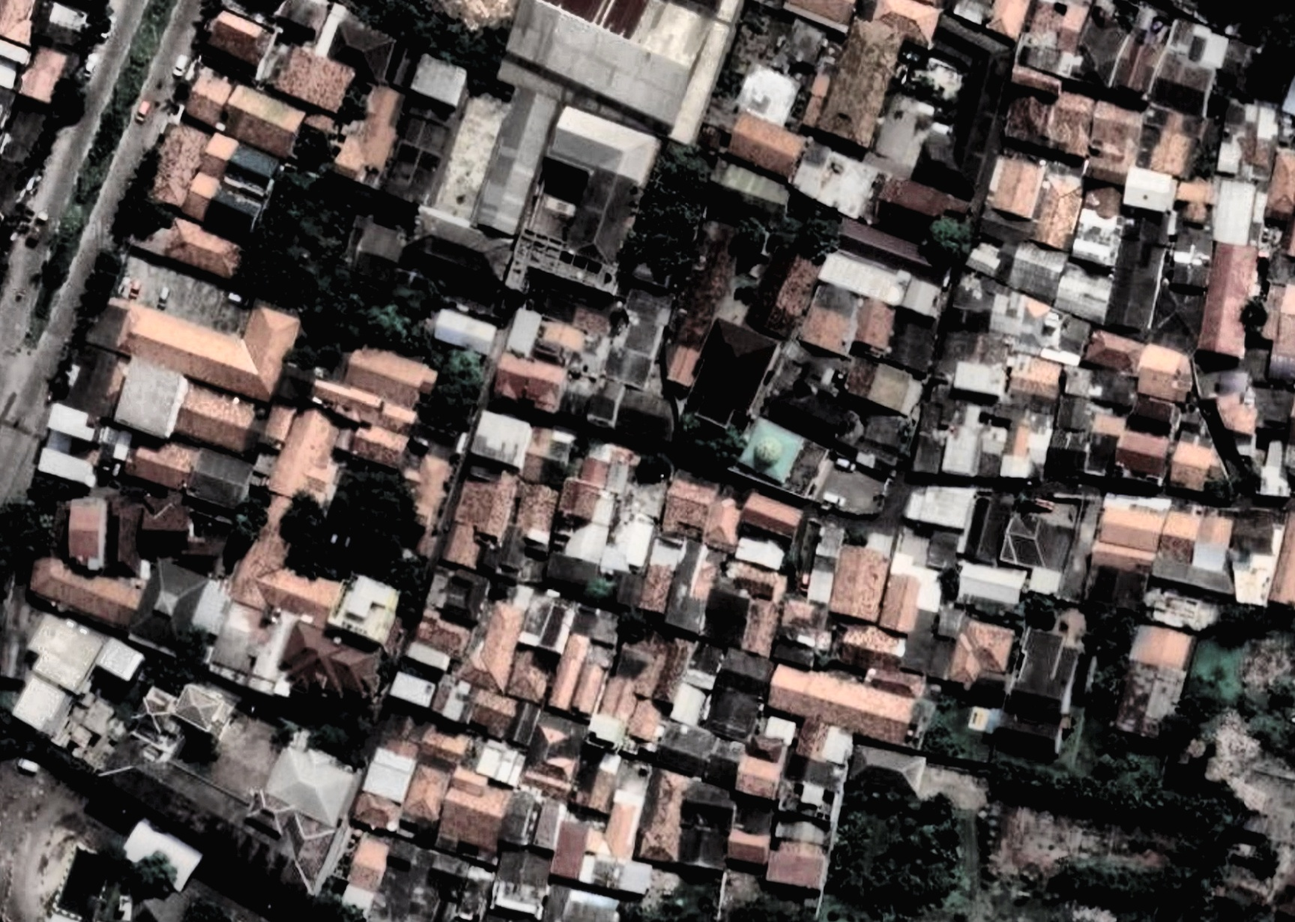building: (95, 729, 340, 908), (493, 0, 745, 147), (502, 103, 665, 318), (94, 259, 303, 409), (497, 0, 699, 135), (914, 16, 1017, 206), (646, 216, 753, 393), (347, 707, 474, 853), (221, 787, 349, 905), (468, 82, 564, 239), (763, 658, 922, 751), (910, 384, 1041, 493), (542, 354, 685, 452), (811, 12, 911, 151), (678, 315, 783, 437), (125, 556, 237, 669), (270, 618, 391, 721), (755, 336, 865, 446), (1077, 489, 1173, 615), (203, 593, 312, 703), (258, 729, 372, 834), (1205, 99, 1285, 247), (1108, 619, 1199, 748), (544, 103, 662, 193), (21, 552, 146, 635), (223, 493, 309, 613), (730, 414, 834, 506), (265, 401, 352, 510), (977, 283, 1086, 370), (131, 205, 247, 286), (367, 836, 475, 922), (866, 170, 973, 256), (1104, 206, 1174, 337), (441, 463, 522, 576), (330, 77, 409, 189), (1003, 625, 1090, 726), (742, 241, 827, 344), (831, 216, 952, 287), (406, 207, 517, 284), (602, 286, 681, 393), (786, 138, 884, 223), (431, 766, 517, 862), (1196, 239, 1262, 363), (1043, 392, 1129, 487), (338, 337, 440, 416), (170, 382, 268, 462), (17, 609, 106, 697), (214, 80, 309, 162), (770, 752, 849, 850), (305, 375, 418, 442), (831, 398, 920, 482), (249, 553, 346, 629), (611, 623, 694, 709), (109, 356, 191, 443), (320, 11, 408, 92), (701, 156, 796, 231), (1221, 505, 1288, 610), (268, 41, 357, 120), (117, 815, 205, 894), (120, 685, 202, 769), (658, 537, 725, 639), (721, 109, 808, 184), (326, 569, 406, 648), (1013, 0, 1092, 80), (144, 119, 211, 213), (195, 4, 276, 81), (672, 779, 738, 873), (466, 596, 529, 693), (945, 617, 1019, 699), (389, 447, 458, 534), (1067, 2, 1134, 91), (1109, 10, 1174, 101), (838, 352, 926, 419), (61, 341, 132, 424), (884, 539, 957, 619), (1081, 100, 1146, 188), (634, 767, 690, 867), (826, 542, 893, 625), (817, 249, 911, 308), (766, 375, 851, 440), (488, 350, 570, 417), (1147, 47, 1221, 121), (496, 785, 569, 859), (167, 674, 242, 746), (910, 127, 986, 198), (333, 832, 396, 917), (934, 325, 1011, 394), (1027, 168, 1089, 253), (182, 446, 257, 516), (488, 844, 555, 922), (122, 430, 199, 497), (343, 213, 410, 289), (736, 416, 807, 487), (957, 487, 1017, 569), (632, 533, 689, 619), (609, 385, 683, 451), (1145, 280, 1210, 355), (733, 60, 803, 128), (1139, 585, 1224, 640), (423, 562, 493, 628), (899, 609, 961, 683), (1050, 260, 1119, 326), (815, 462, 889, 523), (651, 716, 719, 782), (846, 743, 927, 798), (524, 709, 590, 776), (1002, 239, 1069, 305), (984, 152, 1047, 222), (1132, 342, 1199, 407), (655, 474, 719, 542), (489, 350, 557, 414), (698, 575, 756, 650), (468, 408, 536, 471), (396, 762, 451, 839), (998, 508, 1062, 574), (544, 630, 593, 714), (1149, 555, 1238, 601), (59, 691, 121, 757), (1095, 499, 1168, 555), (517, 590, 578, 657), (519, 422, 578, 491), (992, 707, 1066, 762), (8, 673, 71, 737), (200, 184, 265, 245), (428, 305, 500, 360), (763, 837, 830, 896), (1147, 109, 1202, 180), (407, 52, 472, 111), (943, 270, 1002, 335), (14, 42, 70, 110), (903, 480, 976, 532), (702, 684, 764, 745), (174, 518, 234, 581), (1210, 383, 1268, 448), (791, 715, 858, 771), (569, 749, 623, 818), (219, 141, 282, 200), (1069, 207, 1127, 271), (179, 66, 236, 131), (1043, 89, 1095, 160), (774, 17, 831, 81), (737, 490, 805, 543), (866, 0, 941, 48), (795, 302, 858, 359), (541, 291, 614, 340), (956, 561, 1027, 611), (1165, 438, 1225, 497), (1002, 89, 1060, 150), (773, 595, 835, 652), (837, 624, 906, 675), (1081, 326, 1146, 380), (346, 420, 412, 473), (360, 745, 418, 805), (502, 645, 558, 707), (510, 480, 561, 548), (411, 608, 474, 663), (1209, 177, 1259, 246), (568, 646, 614, 720), (267, 0, 335, 50), (876, 570, 926, 638), (105, 494, 146, 576), (64, 496, 108, 572), (1112, 427, 1171, 483), (529, 316, 590, 370), (30, 0, 92, 53), (540, 549, 603, 601), (463, 686, 521, 741), (547, 817, 593, 885), (139, 501, 192, 560), (715, 647, 775, 699), (1121, 165, 1180, 217), (1268, 498, 1295, 611), (34, 445, 101, 490), (974, 205, 1035, 253), (850, 297, 899, 356), (1155, 505, 1204, 564), (1004, 352, 1064, 400), (610, 509, 657, 570), (92, 635, 147, 687), (589, 854, 654, 898), (472, 738, 528, 789), (519, 753, 576, 803), (1267, 285, 1295, 385), (1215, 35, 1262, 94), (739, 596, 783, 659), (732, 753, 786, 804), (722, 558, 783, 603), (595, 672, 644, 727), (571, 601, 626, 650), (1166, 236, 1213, 293), (1182, 22, 1234, 73), (600, 799, 642, 862), (348, 790, 403, 838), (554, 475, 604, 527), (1083, 367, 1139, 412), (44, 401, 101, 445), (704, 576, 755, 625), (563, 517, 612, 567), (782, 0, 856, 33), (582, 376, 625, 432), (681, 639, 726, 692), (733, 531, 789, 573), (1248, 385, 1295, 435), (195, 130, 240, 182), (623, 696, 668, 748), (1127, 393, 1180, 437), (178, 170, 221, 224), (1172, 175, 1216, 227), (1007, 62, 1064, 102), (702, 737, 745, 790), (702, 496, 742, 552), (492, 525, 533, 579), (723, 827, 773, 871), (769, 634, 821, 676), (503, 306, 544, 359), (387, 669, 438, 711), (1267, 148, 1295, 223), (984, 0, 1031, 44), (668, 681, 711, 729), (436, 676, 475, 725), (301, 823, 339, 873), (1195, 510, 1237, 555), (1259, 440, 1291, 497), (137, 684, 180, 725), (0, 0, 36, 48), (404, 640, 454, 674), (575, 450, 614, 490), (1059, 0, 1089, 52), (960, 371, 1006, 404), (925, 529, 960, 571), (610, 569, 644, 610), (1083, 185, 1122, 220), (1245, 104, 1280, 141), (1215, 134, 1245, 177), (761, 715, 799, 747), (1027, 566, 1063, 597), (949, 0, 992, 25), (1266, 250, 1295, 286), (0, 38, 32, 67), (0, 60, 17, 89), (1193, 559, 1223, 572)
tree: (990, 759, 1227, 835), (318, 455, 433, 567), (1157, 799, 1269, 908), (356, 294, 442, 367), (304, 697, 384, 773), (293, 266, 371, 341), (422, 346, 489, 431), (280, 492, 339, 587), (1057, 859, 1170, 907), (1076, 600, 1144, 666), (784, 204, 848, 268), (221, 484, 283, 548), (642, 181, 708, 240), (659, 141, 719, 203), (378, 552, 438, 613), (258, 260, 320, 319), (1243, 681, 1295, 749), (894, 858, 960, 906), (78, 247, 129, 309), (122, 853, 180, 907), (1080, 653, 1127, 719), (700, 423, 757, 477), (896, 817, 963, 862), (39, 742, 102, 789), (3, 502, 48, 565), (1253, 12, 1293, 81), (864, 844, 905, 911), (403, 6, 455, 58), (1179, 667, 1228, 722), (916, 718, 966, 770), (646, 233, 697, 282), (86, 110, 129, 165), (927, 218, 976, 266), (25, 467, 73, 516), (127, 194, 176, 242), (459, 34, 505, 85), (394, 275, 451, 316), (293, 124, 341, 172), (818, 844, 865, 891), (831, 813, 877, 859), (1242, 840, 1289, 885), (232, 252, 276, 300), (1221, 604, 1276, 642), (630, 447, 676, 492), (91, 834, 135, 880), (610, 604, 655, 648), (620, 220, 665, 263), (141, 660, 196, 695), (731, 212, 775, 255), (9, 722, 52, 766), (27, 255, 72, 297), (434, 24, 476, 68), (305, 891, 366, 921), (174, 626, 213, 671), (368, 1, 417, 35), (112, 684, 148, 729), (54, 73, 88, 120), (274, 168, 316, 206), (578, 573, 618, 612), (80, 5, 117, 47), (1159, 710, 1200, 747), (265, 194, 304, 232), (916, 794, 956, 830), (270, 714, 307, 752), (933, 684, 970, 722), (338, 85, 375, 122), (869, 792, 925, 816), (1205, 472, 1241, 509), (712, 67, 748, 104), (291, 341, 341, 367), (768, 208, 798, 249), (1128, 824, 1163, 859), (324, 203, 358, 239), (1183, 892, 1223, 922), (676, 411, 703, 455), (187, 897, 233, 922), (378, 651, 418, 679), (572, 431, 606, 462), (730, 271, 762, 303), (1091, 749, 1124, 780), (186, 732, 217, 765), (253, 228, 285, 258), (938, 567, 967, 598), (1238, 467, 1267, 497), (744, 8, 773, 38), (1032, 595, 1058, 628), (339, 320, 367, 349), (1210, 83, 1238, 111), (1225, 890, 1253, 918), (487, 575, 514, 604), (845, 784, 871, 810), (778, 549, 804, 574), (1248, 300, 1266, 334), (1103, 733, 1132, 753), (846, 525, 870, 549), (901, 422, 917, 458), (1193, 152, 1216, 177), (1, 692, 16, 728), (1120, 907, 1153, 921), (843, 878, 864, 899), (906, 49, 926, 70), (919, 77, 938, 98), (2, 732, 17, 754), (1245, 912, 1277, 922), (986, 608, 1000, 623), (1016, 492, 1029, 508)
